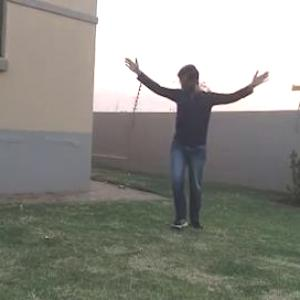takeoff: (122, 42, 277, 223)
